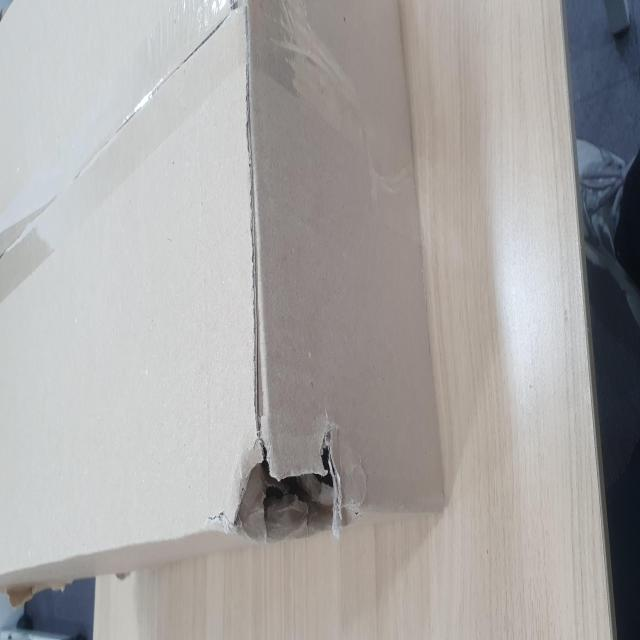damaged: (55, 395, 122, 629)
